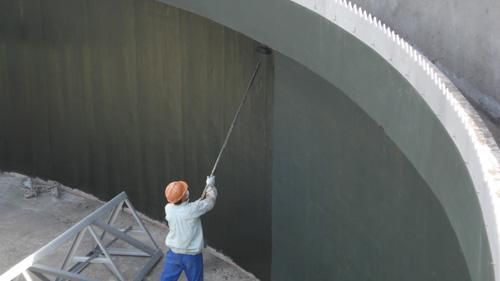helmet: (161, 179, 192, 206)
